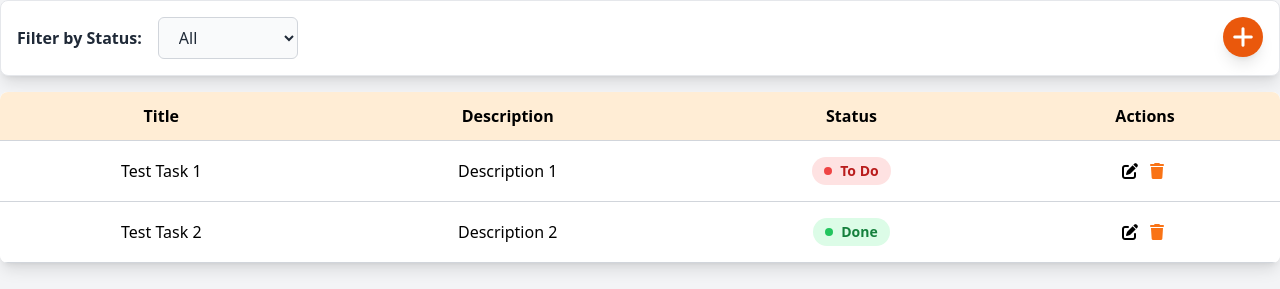
Table.vue › filters tasks by status
Select "Done" in the dropdown with id "statusFilter". click: (228, 38)
box: [158, 17, 298, 59]
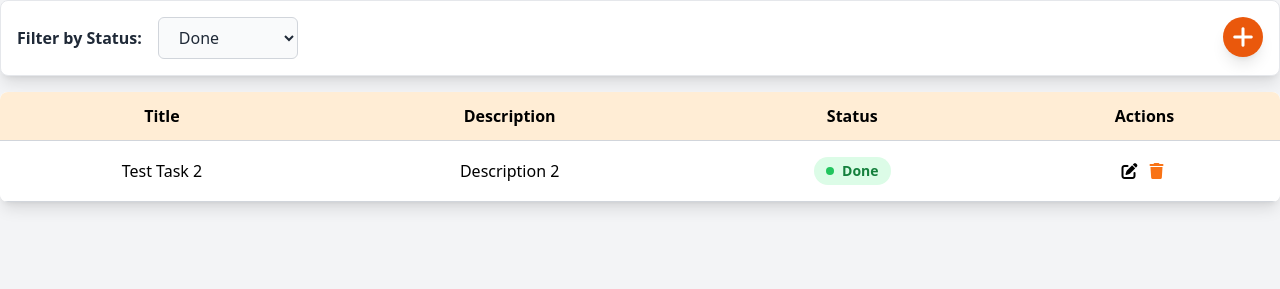
Expected: the row "Test Task 2 Description 2 Done" is shown, [0, 140, 1279, 202]
